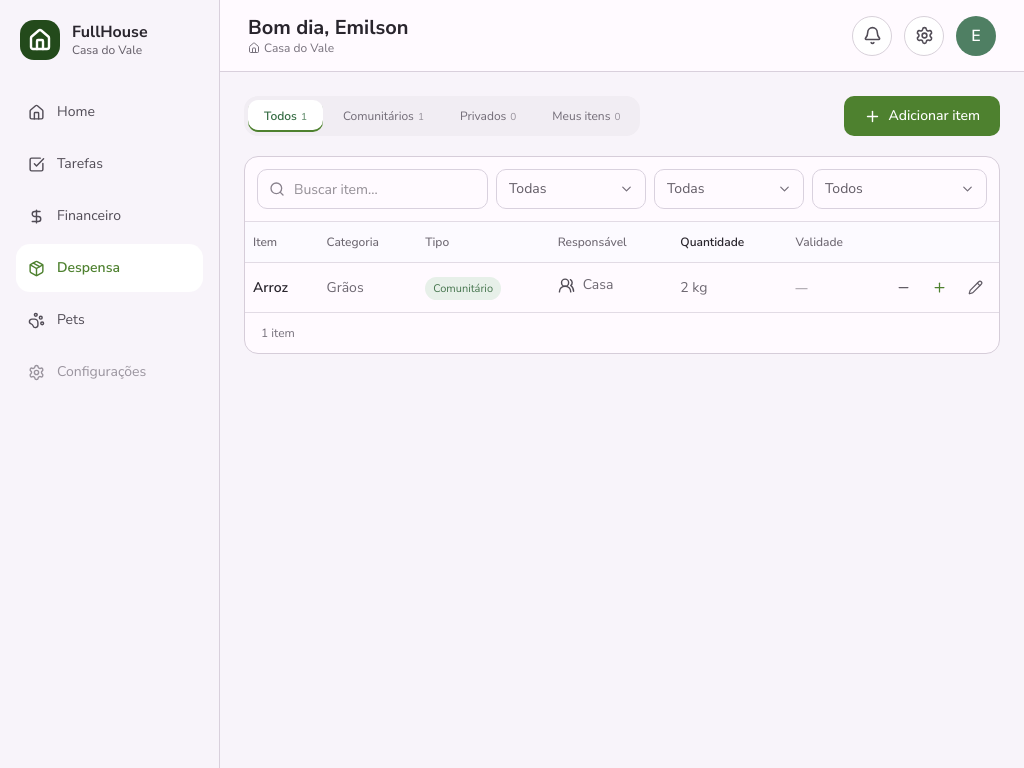
Scenario: PantryPage › registers the exact decimal movement quantity entered by the user
The image size is (1024, 768).
Expected: the heading "Bom dia, Emilson" is shown, [248, 15, 408, 40]
Click the button named "Registrar consumo de Arroz".
click(903, 288)  # box [887, 272, 919, 304]
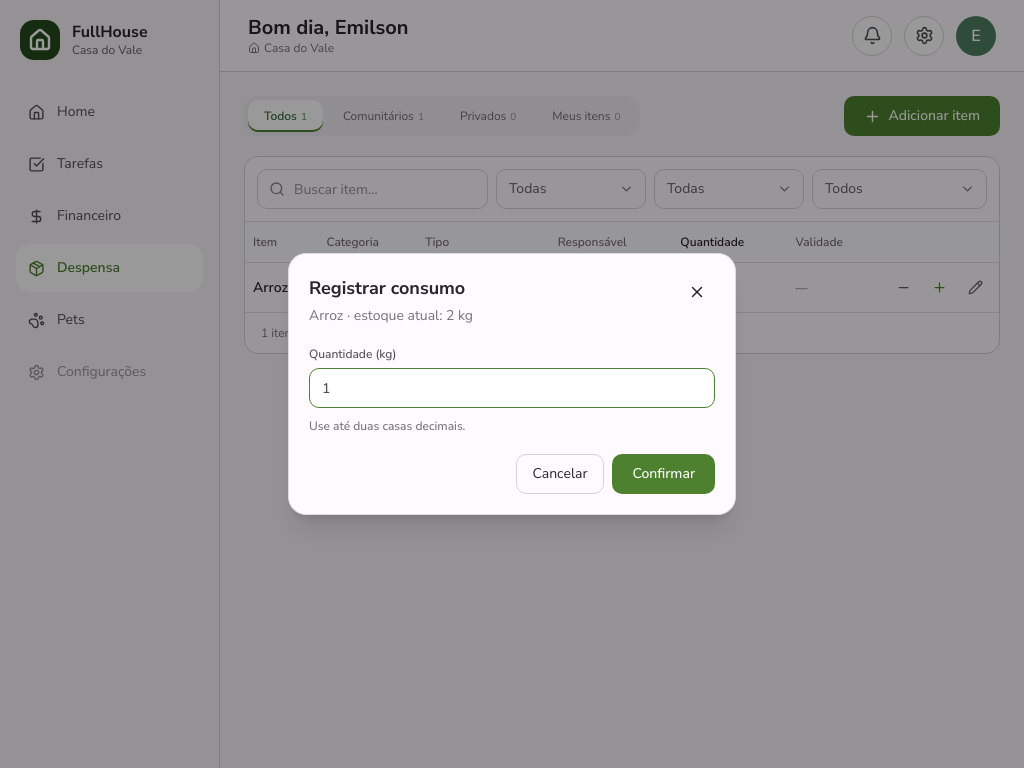
Replace the text in the field with placeholder "Ex.: 0,5" with "0,75" at point(512, 388), box [309, 368, 715, 408]
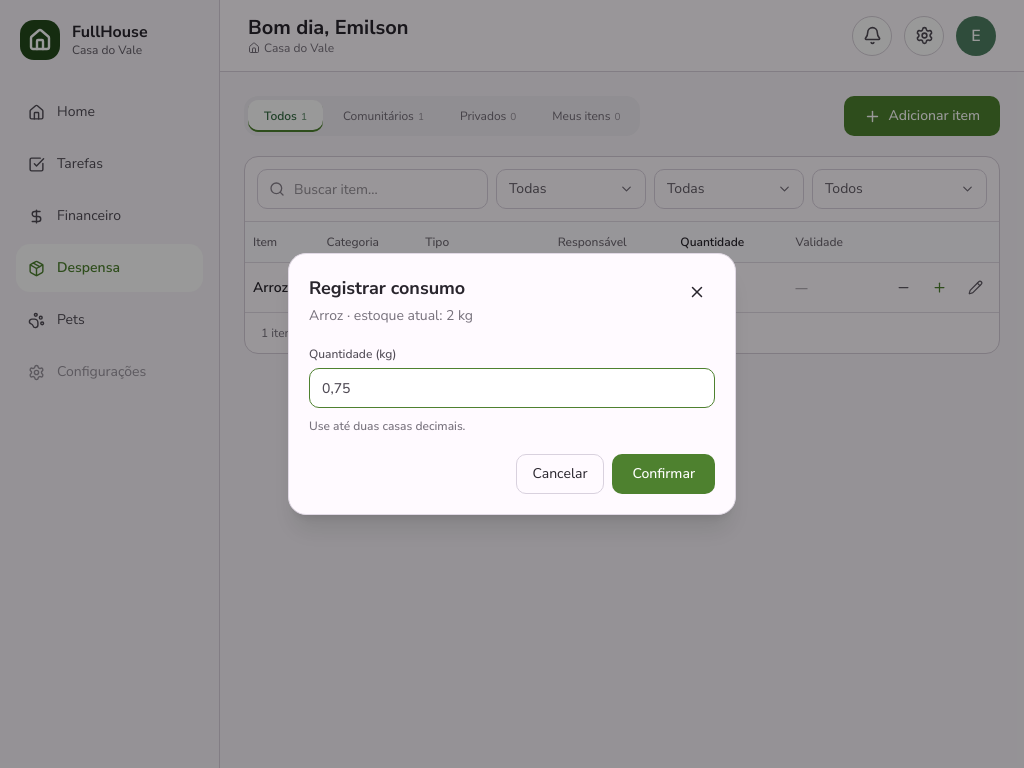
Click the button "Confirmar".
click(664, 474)  # box [612, 454, 715, 494]
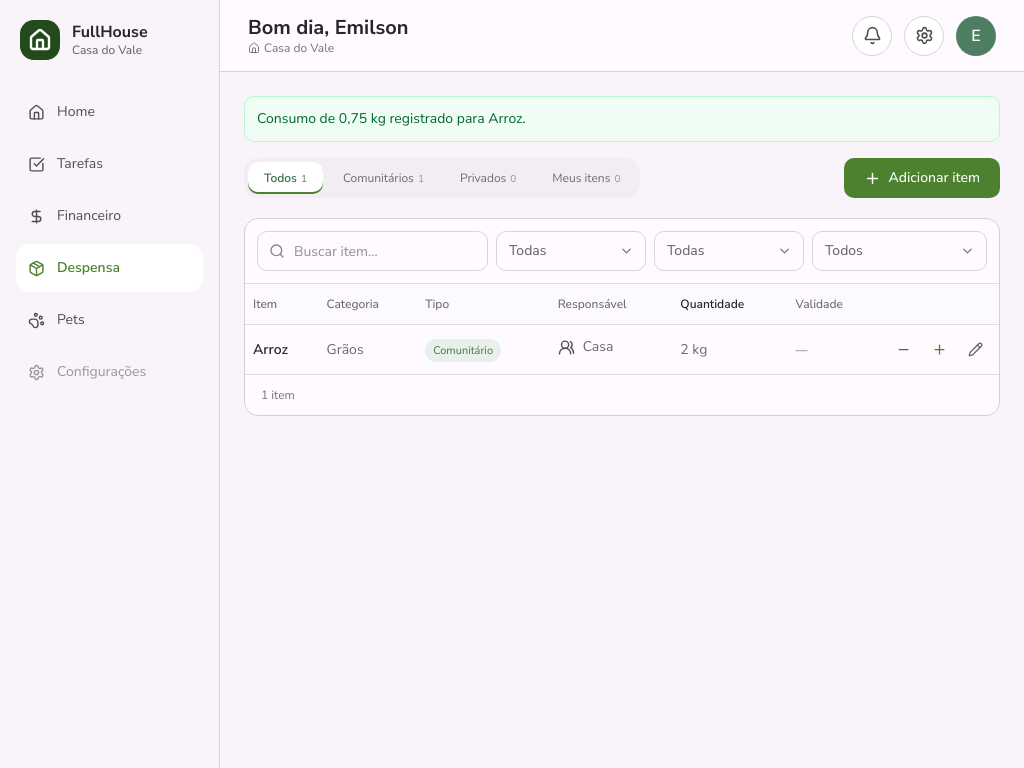
Expected: the text "Consumo de 0,75 kg registrado para Arroz." is shown, [244, 96, 1000, 142]
